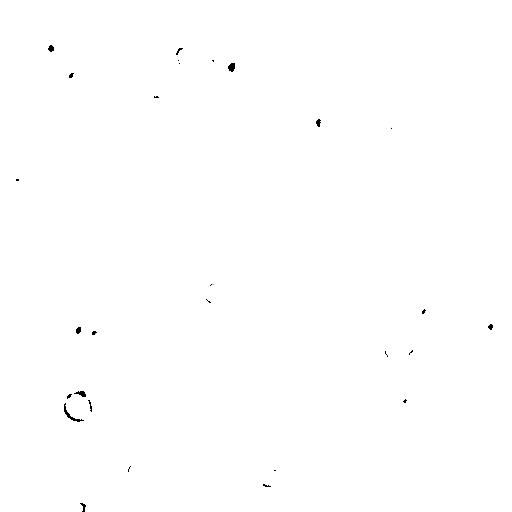micro-algae: (27, 135, 119, 229), (286, 227, 361, 303), (325, 422, 390, 487), (287, 456, 344, 512), (65, 19, 103, 58), (377, 360, 414, 397), (472, 302, 505, 343), (287, 81, 323, 117), (217, 51, 251, 85), (420, 384, 453, 417), (36, 29, 66, 65), (80, 324, 113, 356), (302, 104, 331, 140), (403, 292, 435, 324), (61, 391, 93, 422), (113, 218, 144, 248), (61, 313, 90, 345), (135, 276, 168, 304), (201, 40, 232, 69), (203, 104, 229, 138), (255, 146, 286, 174), (273, 114, 301, 145), (379, 111, 404, 143), (247, 77, 275, 105), (495, 378, 512, 421), (53, 77, 82, 101), (201, 280, 227, 305), (88, 95, 112, 122), (406, 345, 430, 372), (120, 406, 144, 433), (162, 274, 190, 297), (472, 267, 496, 293), (387, 385, 411, 411), (299, 17, 326, 40), (21, 0, 55, 18), (175, 43, 199, 67), (73, 375, 93, 403), (431, 0, 467, 15), (319, 115, 344, 136), (482, 386, 504, 409), (258, 467, 281, 489), (71, 67, 96, 87), (358, 219, 383, 239), (148, 435, 170, 457), (148, 366, 168, 390), (383, 337, 401, 360), (131, 297, 148, 317), (127, 459, 144, 478), (14, 113, 34, 128), (14, 175, 29, 192), (67, 501, 86, 512), (108, 503, 131, 512)
